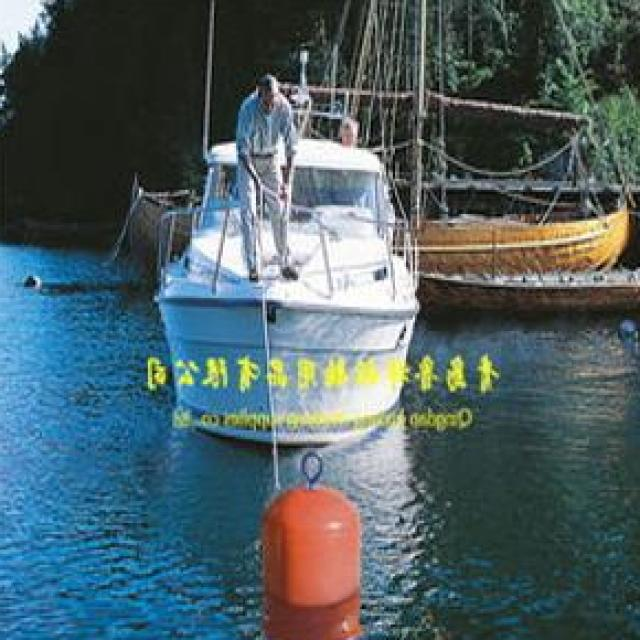buoy: (246, 450, 381, 624)
fishing boat: (150, 76, 452, 448)
